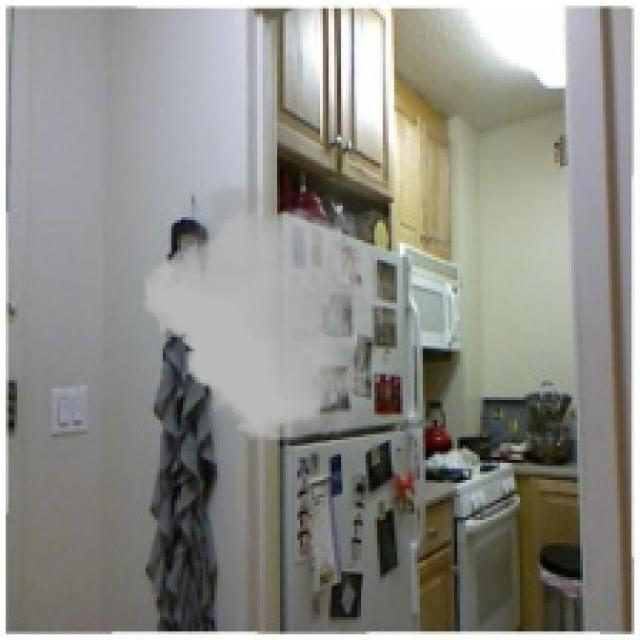smoke: (143, 177, 383, 446)
